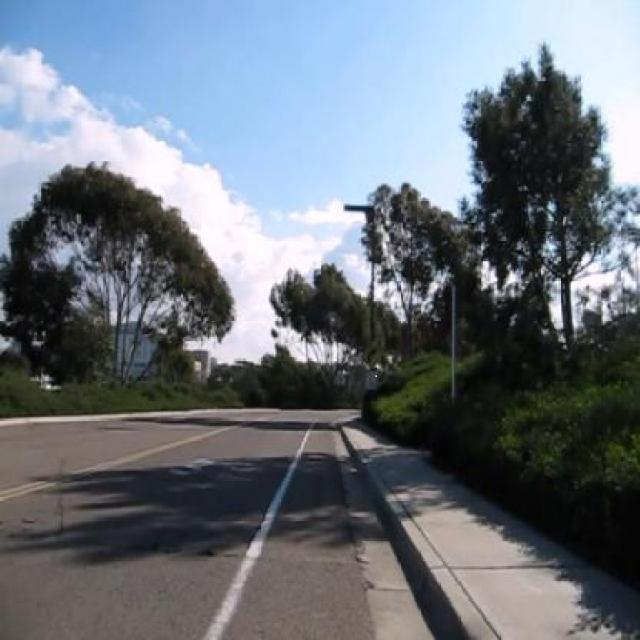speedLimit35: (363, 368, 379, 390)
